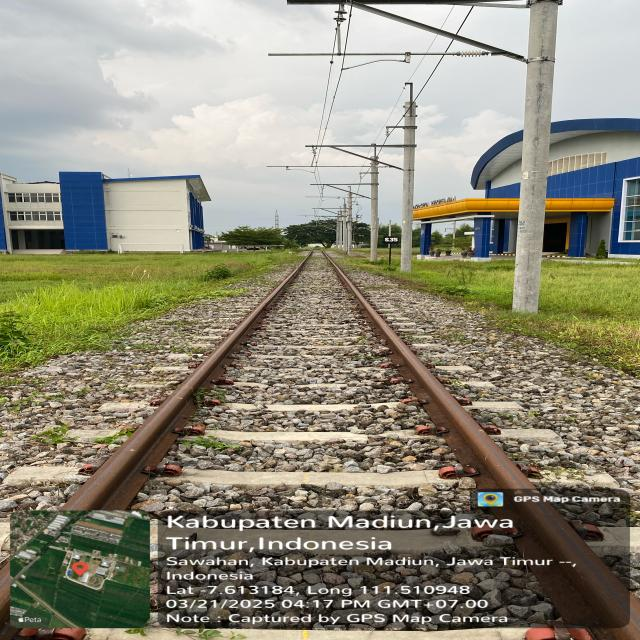rail-detection: (322, 250, 635, 629), (61, 250, 312, 510)
